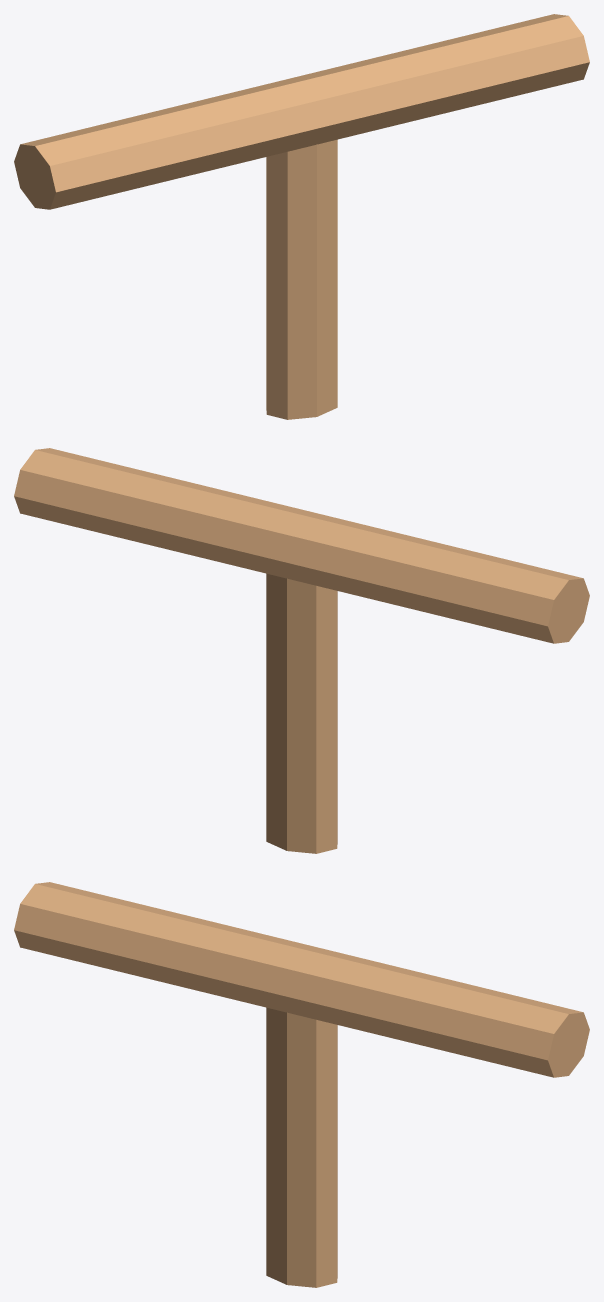
Rendered from Perch.fbx.
The picture shows the model from 3 angles, top to bottom: view 1: azimuth 30°, elevation 25°; view 2: azimuth 150°, elevation 25°; view 3: azimuth 330°, elevation 25°; orthographic projection.
Visible parts, largest first — view 1: PerchR; view 2: PerchR; view 3: PerchR.
Part boxes in pixels (bbox=[...]): PerchR: bbox=[14, 14, 589, 419]; PerchR: bbox=[14, 448, 589, 853]; PerchR: bbox=[14, 882, 589, 1287].
Size of the model in its own units: 127 by 73.89 by 17.32.
